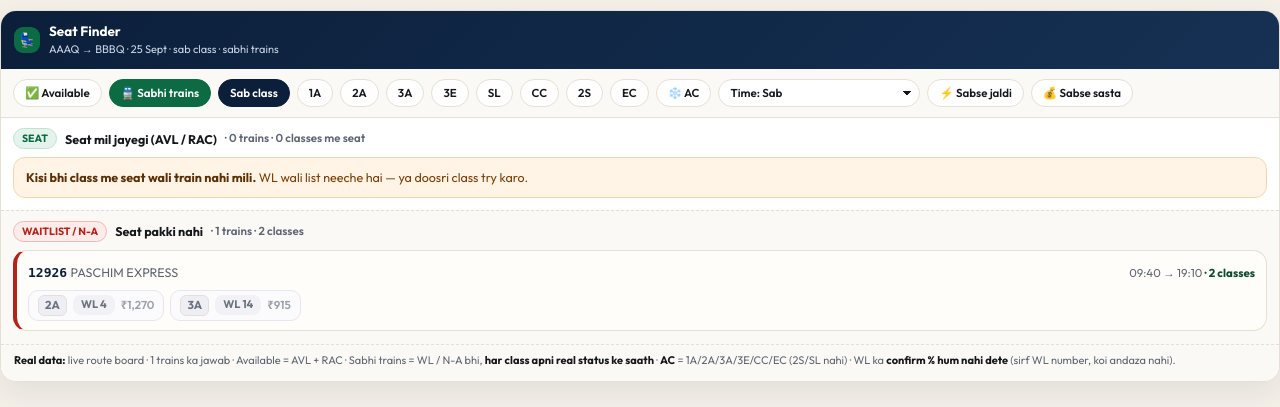
Test case: Seat Finder — purana route board vs fresh per-train board (Round-19c) › 'Available' tab par WL dikhne wali train per-train verify hoke asli AVL rows dikhati hai
Expected: the text "Seat Finder" is shown, [49,22,121,40]
Expected: the text "WL 14" is shown, [215,295,261,315]
Click the button "✅ Available": [57, 93] box [13,78,102,107]
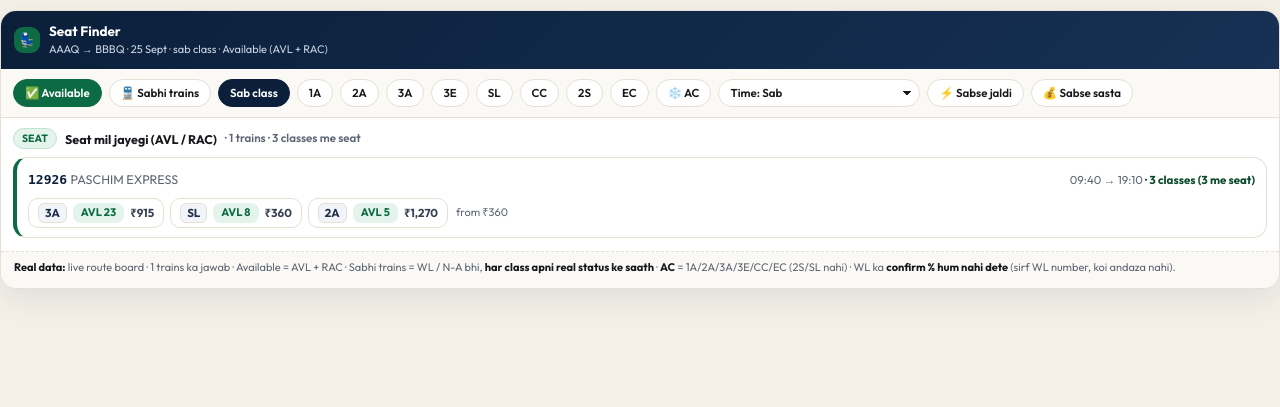
Expected: the text "AVL 23" is shown, [73,203,124,223]
Expected: the text "AVL 5" is shown, [353,203,398,223]
Expected: the text "AVL 8" is shown, [213,203,258,223]
